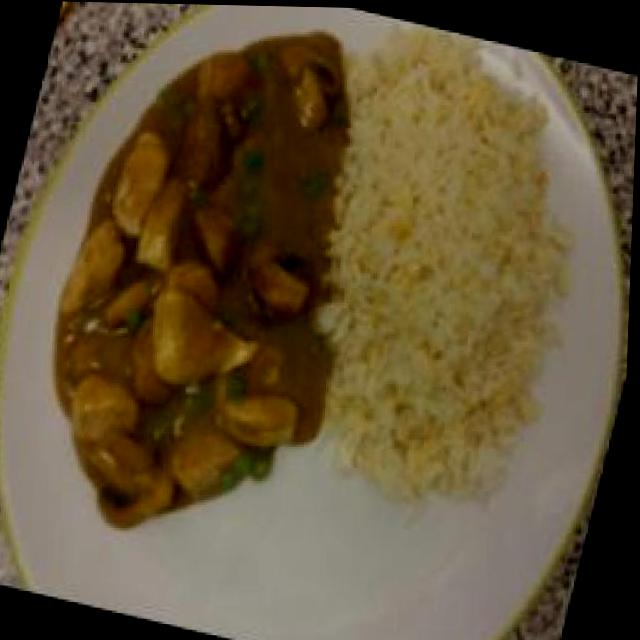curry: (16, 1, 390, 555)
rice: (299, 60, 601, 479)
